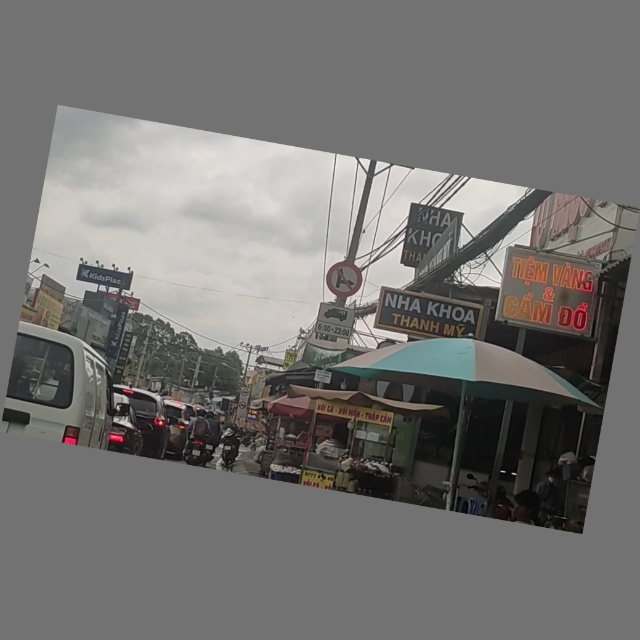P.139: (323, 260, 365, 301)
S.505a*Xe tai: (315, 304, 354, 340)
